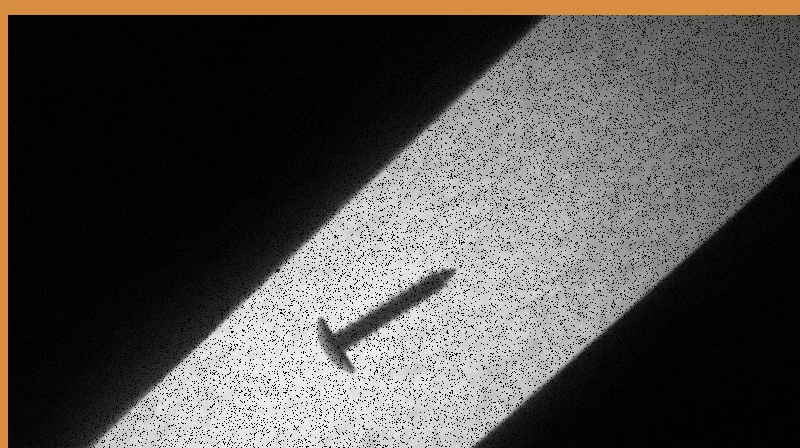S003: (309, 265, 460, 374)
